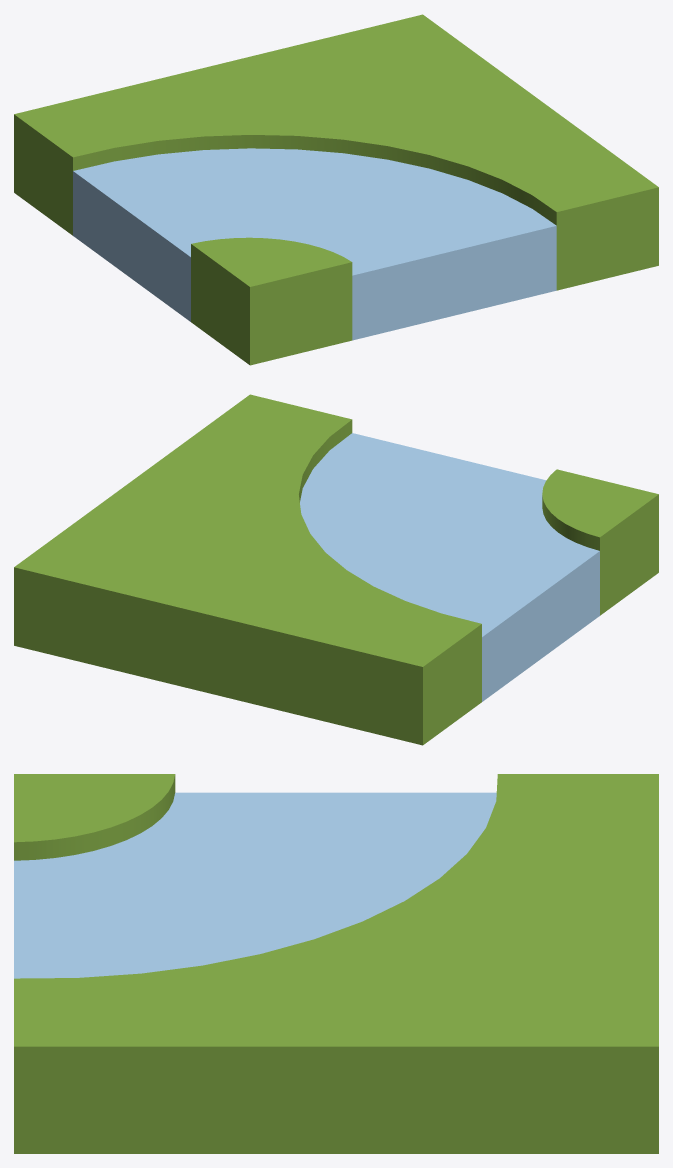
The model's file is tile095.fbx.
3 renders of one model, top to bottom at view 1: azimuth 30°, elevation 25°; view 2: azimuth 150°, elevation 25°; view 3: azimuth 270°, elevation 25°, orthographic. The views are drawn at different scales.
Parts seen in each view (by area): view 1: tile095; view 2: tile095; view 3: tile095.
Part boxes in pixels (x1=…): tile095: x1=14, y1=14, x2=658, y2=365; tile095: x1=14, y1=394, x2=658, y2=745; tile095: x1=14, y1=774, x2=658, y2=1153.
Size of the model in its own units: 10 by 1.83 by 10.
